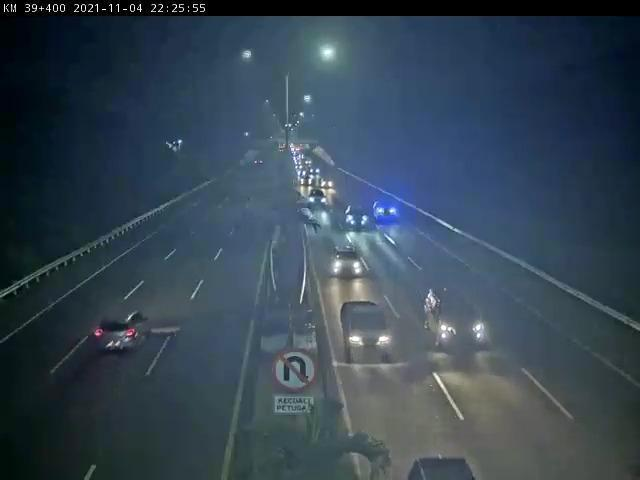car: (419, 286, 497, 357), (90, 307, 152, 359), (327, 244, 377, 283), (345, 199, 374, 236), (375, 194, 404, 226), (308, 186, 331, 214)
truck: (337, 301, 402, 366)
